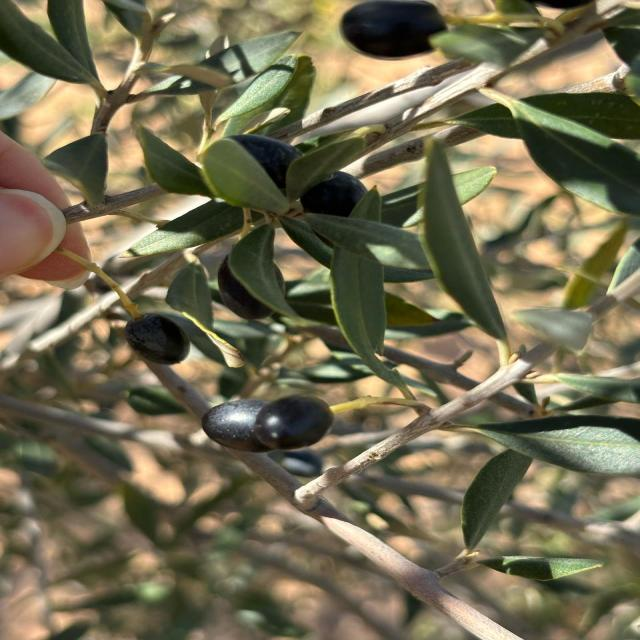Healthy: (419, 141, 508, 350), (202, 395, 333, 452), (201, 138, 289, 214), (340, 0, 446, 58), (125, 314, 189, 365)
